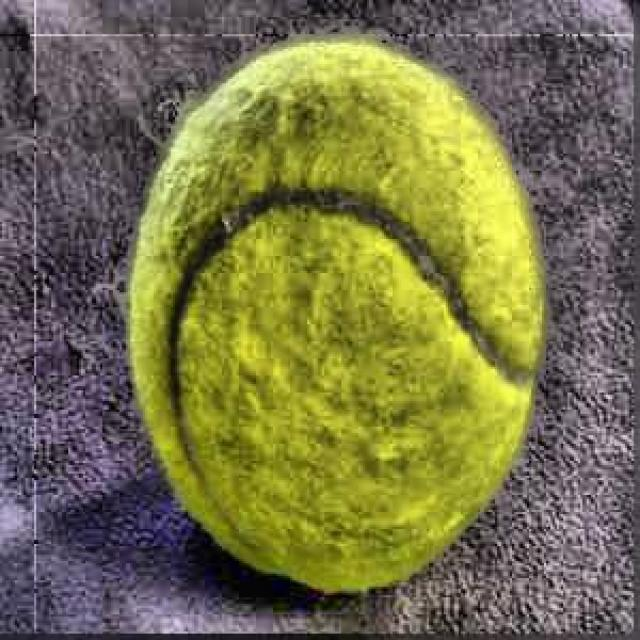tennis-ball: (124, 26, 553, 594)
